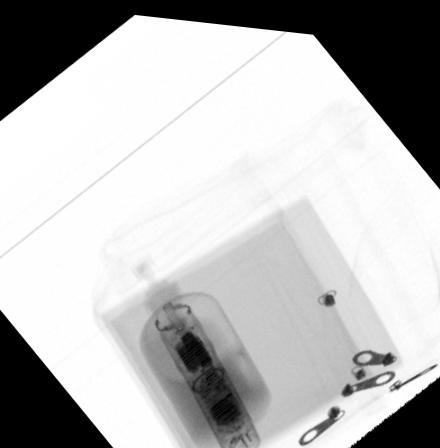Baton: (154, 297, 263, 448)
